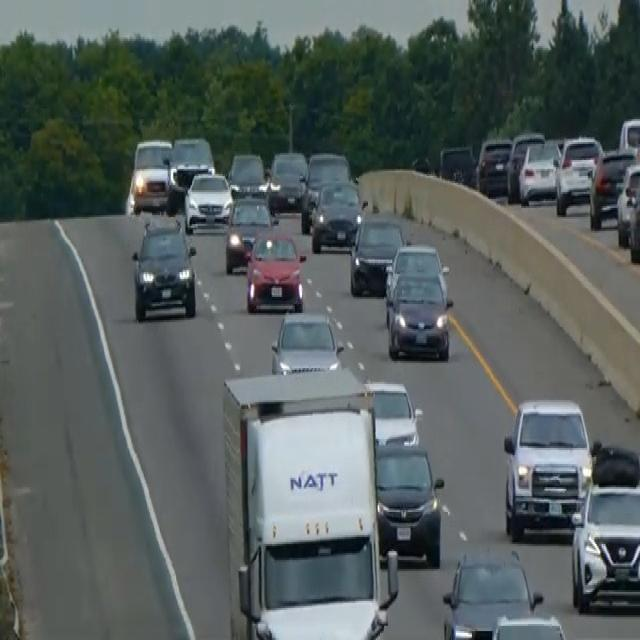car: (502, 394, 594, 540), (569, 446, 639, 615), (441, 548, 542, 638), (374, 439, 444, 567), (383, 242, 454, 361), (130, 213, 197, 322), (244, 226, 306, 313), (348, 211, 405, 297), (270, 307, 344, 373), (224, 190, 278, 274), (300, 149, 351, 231), (310, 176, 365, 252), (364, 377, 422, 448), (588, 146, 636, 229), (555, 133, 603, 215), (128, 135, 173, 213), (183, 169, 232, 233), (517, 137, 560, 204), (168, 133, 215, 194), (505, 130, 545, 201), (267, 148, 308, 212), (486, 610, 570, 638), (475, 134, 512, 196), (615, 158, 639, 247), (226, 150, 266, 198), (438, 142, 476, 187), (627, 162, 639, 263), (618, 114, 639, 162)
lorry: (220, 366, 400, 638)
